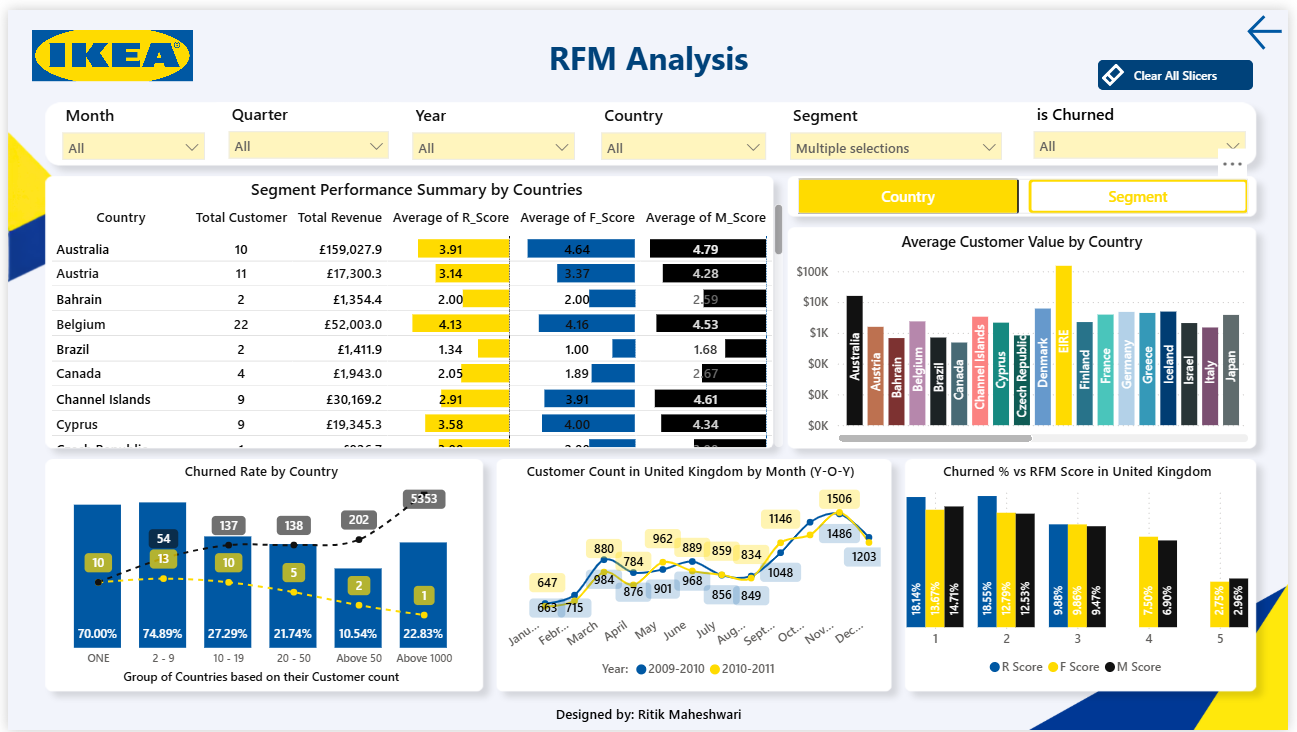

The dashboard page shown, as its layout file describes it:
{"tool":"powerbi","page":{"name":"RFM Analysis","canvas":[1280,720],"ordinal":1},"visuals":[{"type":"slicer","fields":{"Values":["Sheet1.InvoiceDate.Variation.Date Hierarchy.Month"]},"box":[42.5,93.8,166.2,60],"z":0},{"type":"lineClusteredColumnComboChart","title":"Churned % vs RFM Score in United Kingdom","fields":{"Category":["UK RFM Table.Score"],"Series":["RFM_order.Score Type"],"Y":["UK RFM Table.Churned_Rate_UK"]},"box":[894.2,452.1,351.7,224.2],"z":0,"group":"g1"},{"type":"slicer","fields":{"Values":["Sheet1.InvoiceDate.Variation.Date Hierarchy.Year"]},"box":[392.5,93.8,186.2,60],"z":1000},{"type":"columnChart","title":"Average Customer Value by Country","fields":{"Y":["Sheet1.Avg Customer Value"],"Category":["Sheet1.Country"],"Series":["Sheet1.Country"]},"box":[782.2,221.7,462.8,216.1],"z":1000,"group":"g1"},{"type":"lineStackedColumnComboChart","title":"Churned Rate by Country","fields":{"Category":["SortTableCountrybyChurn.Status"],"Y":["Avg(Country_Summary1.Churned Rate)"],"Y2":["CountNonNull(Country_Summary1.Country)","Sum(Country_Summary1.Customer)"]},"box":[34.9,452.1,436.9,227.7],"z":2000,"group":"g1"},{"type":"slicer","fields":{"Values":["Sheet1.InvoiceDate.Variation.Date Hierarchy.Quarter"]},"box":[208.6,93,184.3,60],"z":3000},{"type":"lineChart","title":"Customer Count in United Kingdom by Month (Y-O-Y)","fields":{"Category":["UK_Table.InvoiceDate.Variation.Date Hierarchy.Month"],"Series":["UK_Table.SourceSheet"],"Y":["UK_Table.TotalCustomer"]},"box":[487,452.1,390.4,226.6],"z":3000,"group":"g1"},{"type":"slicer","fields":{"Values":["Sheet1.Country"]},"box":[581.2,93.8,188.8,60],"z":4000},{"type":"tableEx","title":"Segment Performance Summary by Countries","fields":{"Values":["Sheet1.Country","Sheet1.Total Customer","Sheet1.Total Revenue","Avg(Sheet1.R_Score)","Avg(Sheet1.F_Score)","Avg(Sheet1.M_Score)"]},"box":[37.4,167.9,742.5,274.2],"z":4000,"group":"g1"},{"type":"slicer","fields":{"Values":["Sheet1.Customer_Value"]},"box":[770,93.8,236,60],"z":5000},{"type":"slicer","fields":{"Values":["Sheet1.isChurned"]},"box":[1013.8,93,236,60],"z":6000},{"type":"image","box":[0,20,208.6,51.4],"z":7000},{"type":"textbox","box":[464.6,20.8,351.3,59.2],"z":8000},{"type":"bookmarkNavigator","box":[790,169,450,35],"z":9000},{"type":"textbox","box":[535.6,690,208.8,30],"z":10000},{"type":"actionButton","box":[1235,0,45,45],"z":11000},{"type":"actionButton","box":[1090,50,155,30],"z":12000},{"type":"group","id":"g1","title":"Country","box":[34.9,167.9,1211,511.9],"z":13000}]}

Visuals, with their boxes in screenshot pixels (x1, y1, x2, y2), scaled from the page's 1280x720 canvas onto the 1297x732 screenshot:
slicer - Sheet1.InvoiceDate.Variation.Date Hierarchy.Month: <bbox>43, 95, 211, 156</bbox>
"Churned % vs RFM Score in United Kingdom" lineClusteredColumnComboChart: <bbox>906, 460, 1262, 688</bbox>
slicer - Sheet1.InvoiceDate.Variation.Date Hierarchy.Year: <bbox>398, 95, 586, 156</bbox>
"Average Customer Value by Country" columnChart: <bbox>793, 225, 1262, 445</bbox>
"Churned Rate by Country" lineStackedColumnComboChart: <bbox>35, 460, 478, 691</bbox>
slicer - Sheet1.InvoiceDate.Variation.Date Hierarchy.Quarter: <bbox>211, 95, 398, 156</bbox>
"Customer Count in United Kingdom by Month (Y-O-Y)" lineChart: <bbox>493, 460, 889, 690</bbox>
slicer - Sheet1.Country: <bbox>589, 95, 780, 156</bbox>
"Segment Performance Summary by Countries" tableEx: <bbox>38, 171, 790, 449</bbox>
slicer - Sheet1.Customer_Value: <bbox>780, 95, 1019, 156</bbox>
slicer - Sheet1.isChurned: <bbox>1027, 95, 1266, 156</bbox>
image: <bbox>0, 20, 211, 73</bbox>
textbox: <bbox>471, 21, 827, 81</bbox>
bookmarkNavigator: <bbox>800, 172, 1256, 207</bbox>
textbox: <bbox>543, 702, 754, 731</bbox>
actionButton: <bbox>1251, 0, 1296, 46</bbox>
actionButton: <bbox>1104, 51, 1262, 81</bbox>
"Country" group: <bbox>35, 171, 1262, 691</bbox>
